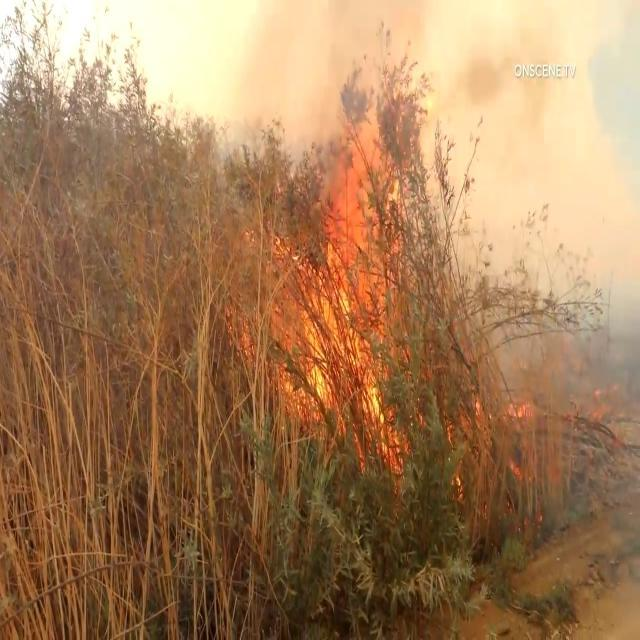Fire: (262, 68, 422, 456)
